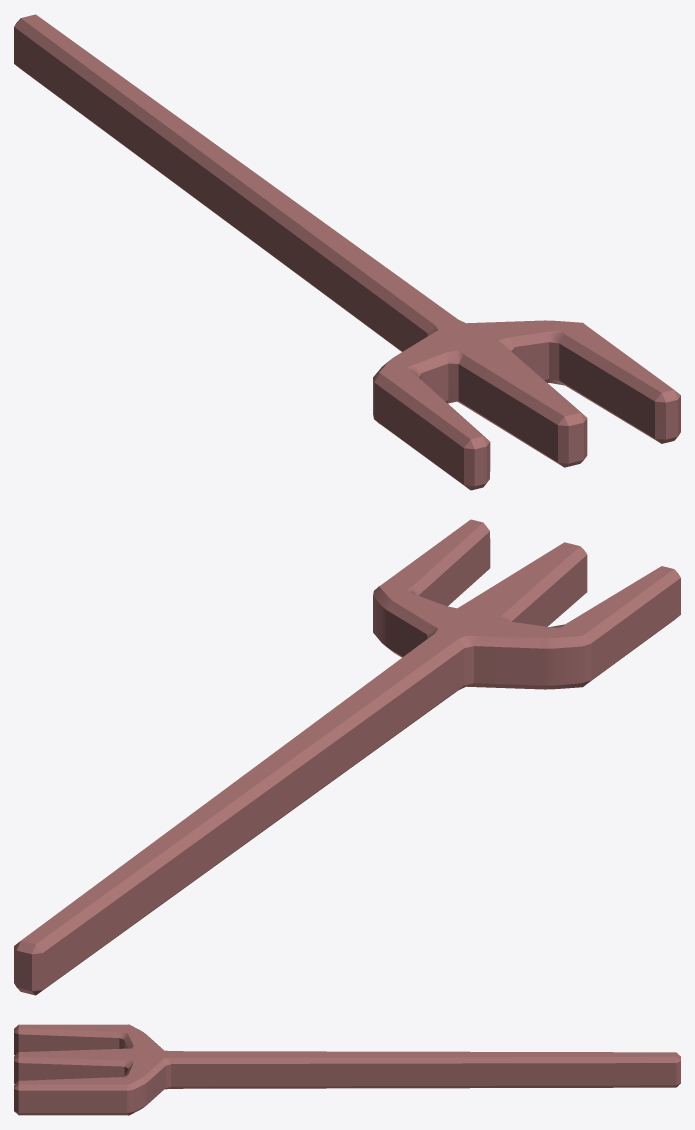
Rendered from Spear.fbx.
3 views of the same model, one above another, from view 1: azimuth 30°, elevation 25°; view 2: azimuth 150°, elevation 25°; view 3: azimuth 270°, elevation 25° (orthographic). The views are drawn at different scales.
Parts seen in each view (by area): view 1: pCube3; view 2: pCube3; view 3: pCube3.
Part boxes in pixels (x1,y1,x2,y2): pCube3: (14,14,680,490); pCube3: (14,519,680,995); pCube3: (14,1024,680,1115).
Bounding box in the file's own units: 25.84 × 5.83 × 114.
